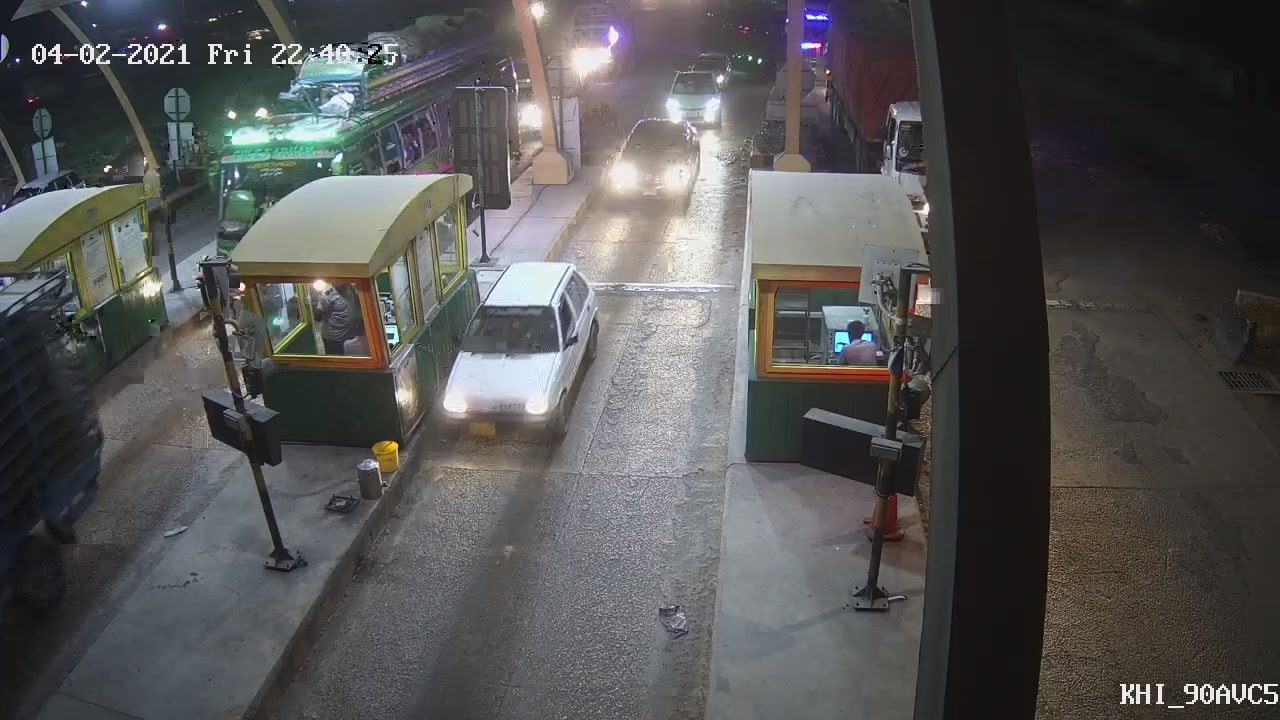F1: (442, 260, 603, 443)
